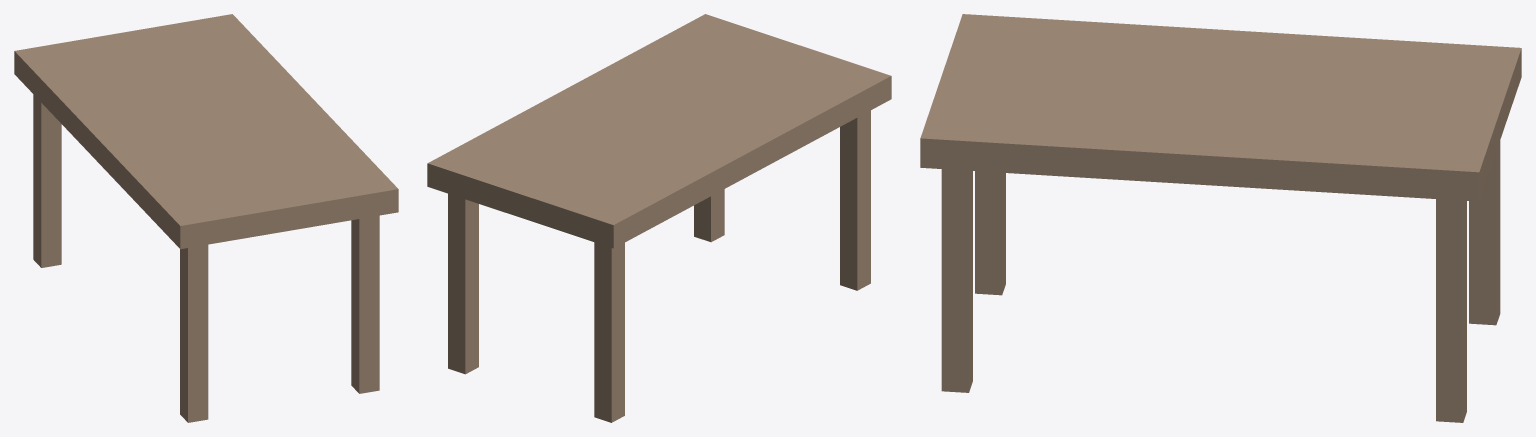
Rendered from Table.fbx.
3 renders of one model, left to right at view 1: azimuth 30°, elevation 25°; view 2: azimuth 150°, elevation 25°; view 3: azimuth 270°, elevation 25°, orthographic. The views are drawn at different scales.
Visible parts, largest first — view 1: top, legs; view 2: top, legs; view 3: top, legs.
Part boxes in pixels (x1,y1,x2,y2): top: (14, 14, 398, 249); legs: (33, 94, 379, 422); top: (427, 14, 891, 248); legs: (448, 110, 870, 422); top: (920, 14, 1521, 201); legs: (941, 140, 1500, 422).
Size of the model in its own units: 4.13 by 3.15 by 6.62.
